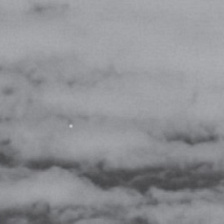Target: (67, 123, 73, 129)
